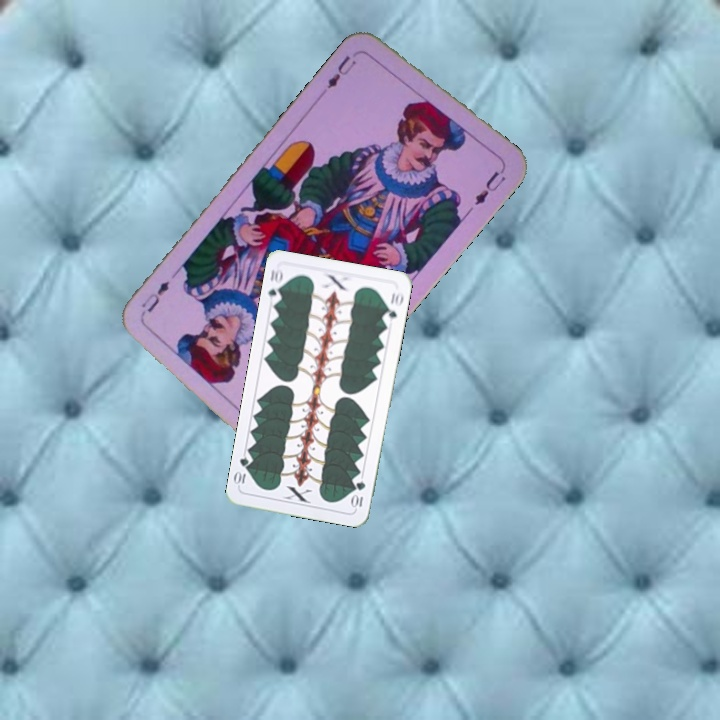EU: (323, 51, 359, 92)
G10: (264, 264, 285, 306), (349, 477, 368, 511)
